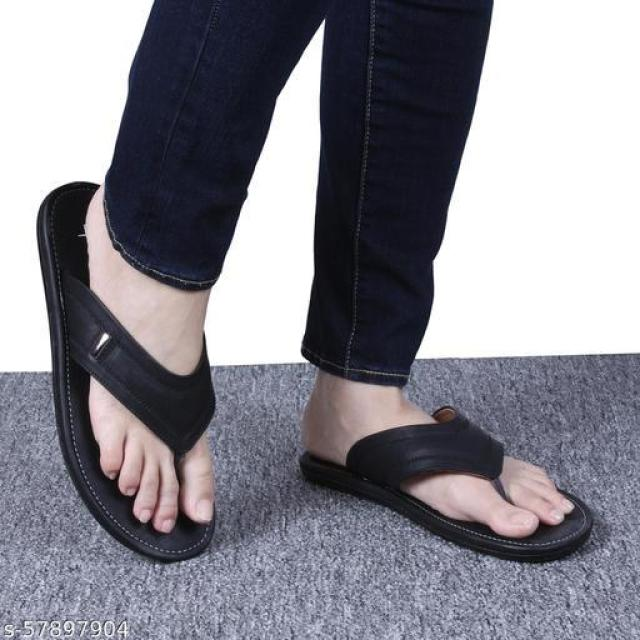Sandals: (33, 178, 219, 561), (296, 342, 595, 560)
